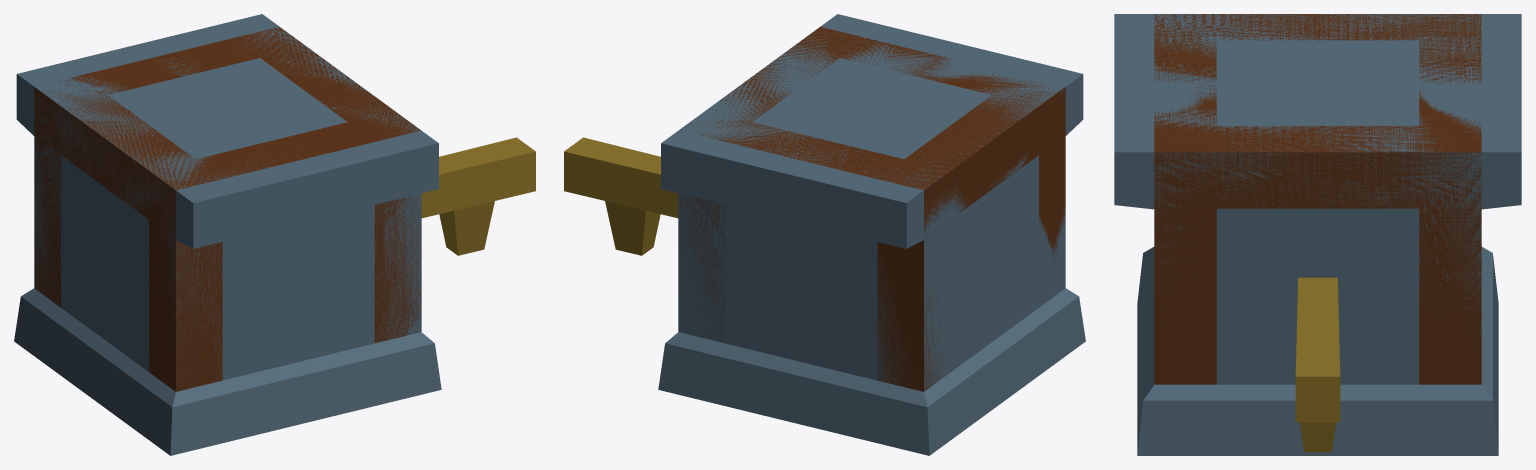
File: picture.fbx
The picture shows the model from 3 angles, left to right: view 1: azimuth 30°, elevation 25°; view 2: azimuth 150°, elevation 25°; view 3: azimuth 270°, elevation 25°; orthographic projection. The views are drawn at different scales.
Parts seen in each view (by area): view 1: Cube.001, Cube, Cube.002; view 2: Cube.001, Cube, Cube.002; view 3: Cube.001, Cube, Cube.002.
Boxes of the visible parts, <box> form: Cube.001: <box>14,14,441,455</box>; Cube: <box>34,26,421,391</box>; Cube.002: <box>421,137,535,255</box>; Cube.001: <box>658,14,1085,455</box>; Cube: <box>678,26,1065,391</box>; Cube.002: <box>564,137,678,255</box>; Cube.001: <box>1114,14,1521,455</box>; Cube: <box>1154,14,1481,384</box>; Cube.002: <box>1295,277,1340,452</box>.
Bounding box in the file's own units: 353 × 200 × 249.
